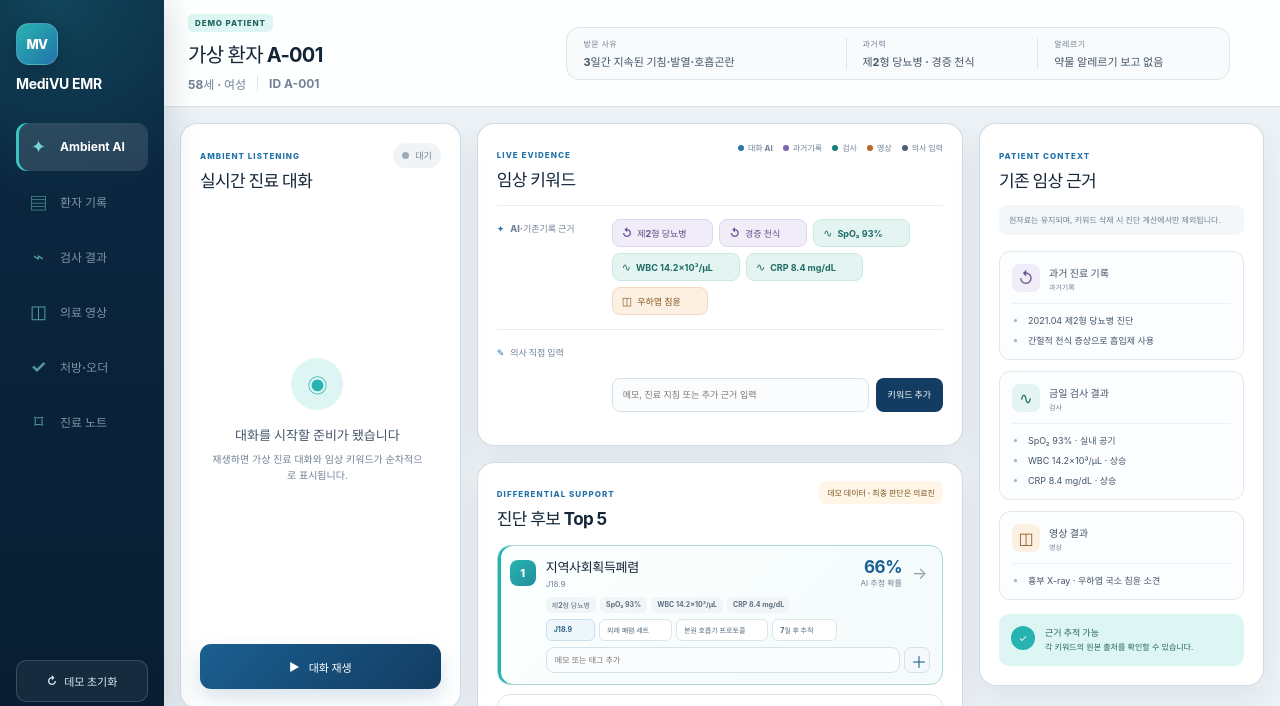
Test case: App order flow › opens a prefilled order workspace for the selected diagnosis
Step 1. Click the button with aria-label "지역사회획득폐렴 오더 열기" → {"x": 592, "y": 567}, box 546,557 -> 930,589
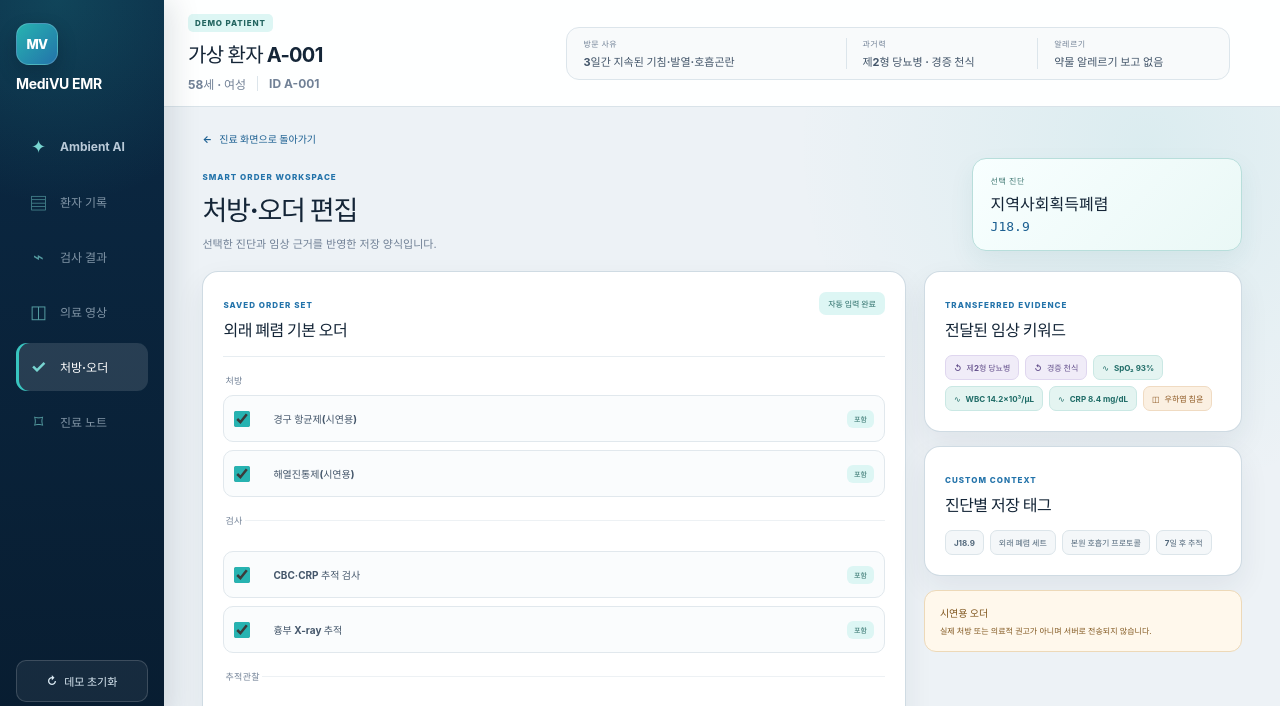
Expected: the text "지역사회획득폐렴" is shown, 991,194 -> 1108,214
Expected: the heading "처방·오더 편집" is shown, 202,194 -> 357,227
Expected: the checkbox named "CBC·CRP 추적 검사" is checked, 234,566 -> 250,582
